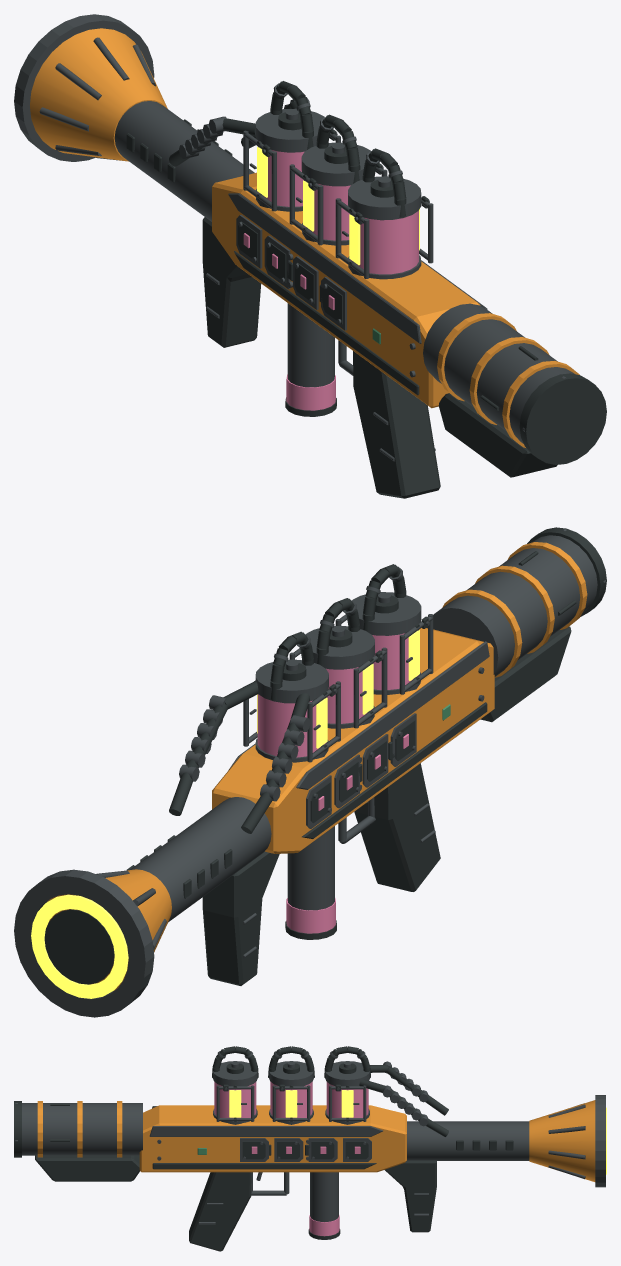
Rendered from sticky_1.glb.
The picture shows the model from 3 angles, top to bottom: view 1: azimuth 30°, elevation 25°; view 2: azimuth 150°, elevation 25°; view 3: azimuth 270°, elevation 25°; orthographic projection. The views are drawn at different scales.
Parts seen in each view (by area): view 1: Weapon_sticky_v1; view 2: Weapon_sticky_v1; view 3: Weapon_sticky_v1.
Part boxes in pixels (x1=…): Weapon_sticky_v1: x1=14, y1=14, x2=606, y2=498; Weapon_sticky_v1: x1=14, y1=527, x2=606, y2=1017; Weapon_sticky_v1: x1=14, y1=1046, x2=606, y2=1251.
Bounding box in the file's own units: 0.14 × 0.3345 × 0.8975.
